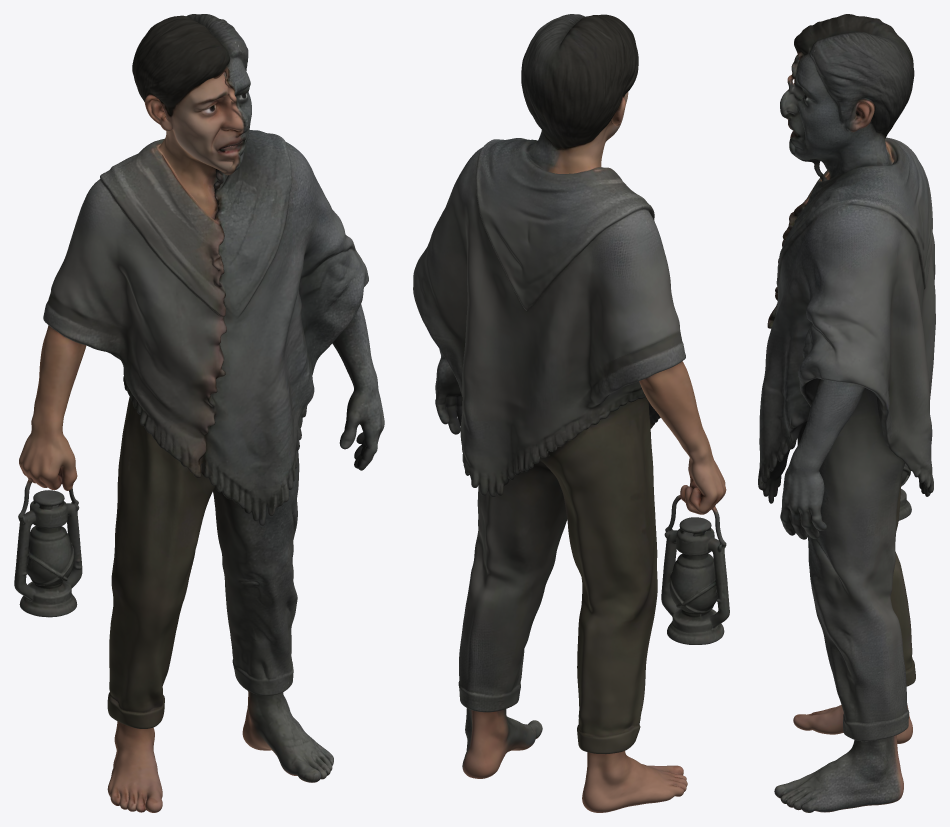
The model's file is 58-las-piedras-de-sonsa-los-que-rompieron-su-promesa-optimized.glb.
3 renders of one model, left to right at view 1: azimuth 30°, elevation 25°; view 2: azimuth 150°, elevation 25°; view 3: azimuth 270°, elevation 25°, orthographic. The views are drawn at different scales.
Parts seen in each view (by area): view 1: tripo_node_fd4758f9-857f-4a3b-bf17-304bf59102bb; view 2: tripo_node_fd4758f9-857f-4a3b-bf17-304bf59102bb; view 3: tripo_node_fd4758f9-857f-4a3b-bf17-304bf59102bb.
Part boxes in pixels (x1=…): tripo_node_fd4758f9-857f-4a3b-bf17-304bf59102bb: x1=14, y1=14, x2=384, y2=812; tripo_node_fd4758f9-857f-4a3b-bf17-304bf59102bb: x1=413, y1=14, x2=729, y2=812; tripo_node_fd4758f9-857f-4a3b-bf17-304bf59102bb: x1=758, y1=14, x2=935, y2=812.
Bounding box in the file's own units: 0.4506 × 1 × 0.2182.
Materials: 1 (1 with a texture image).
